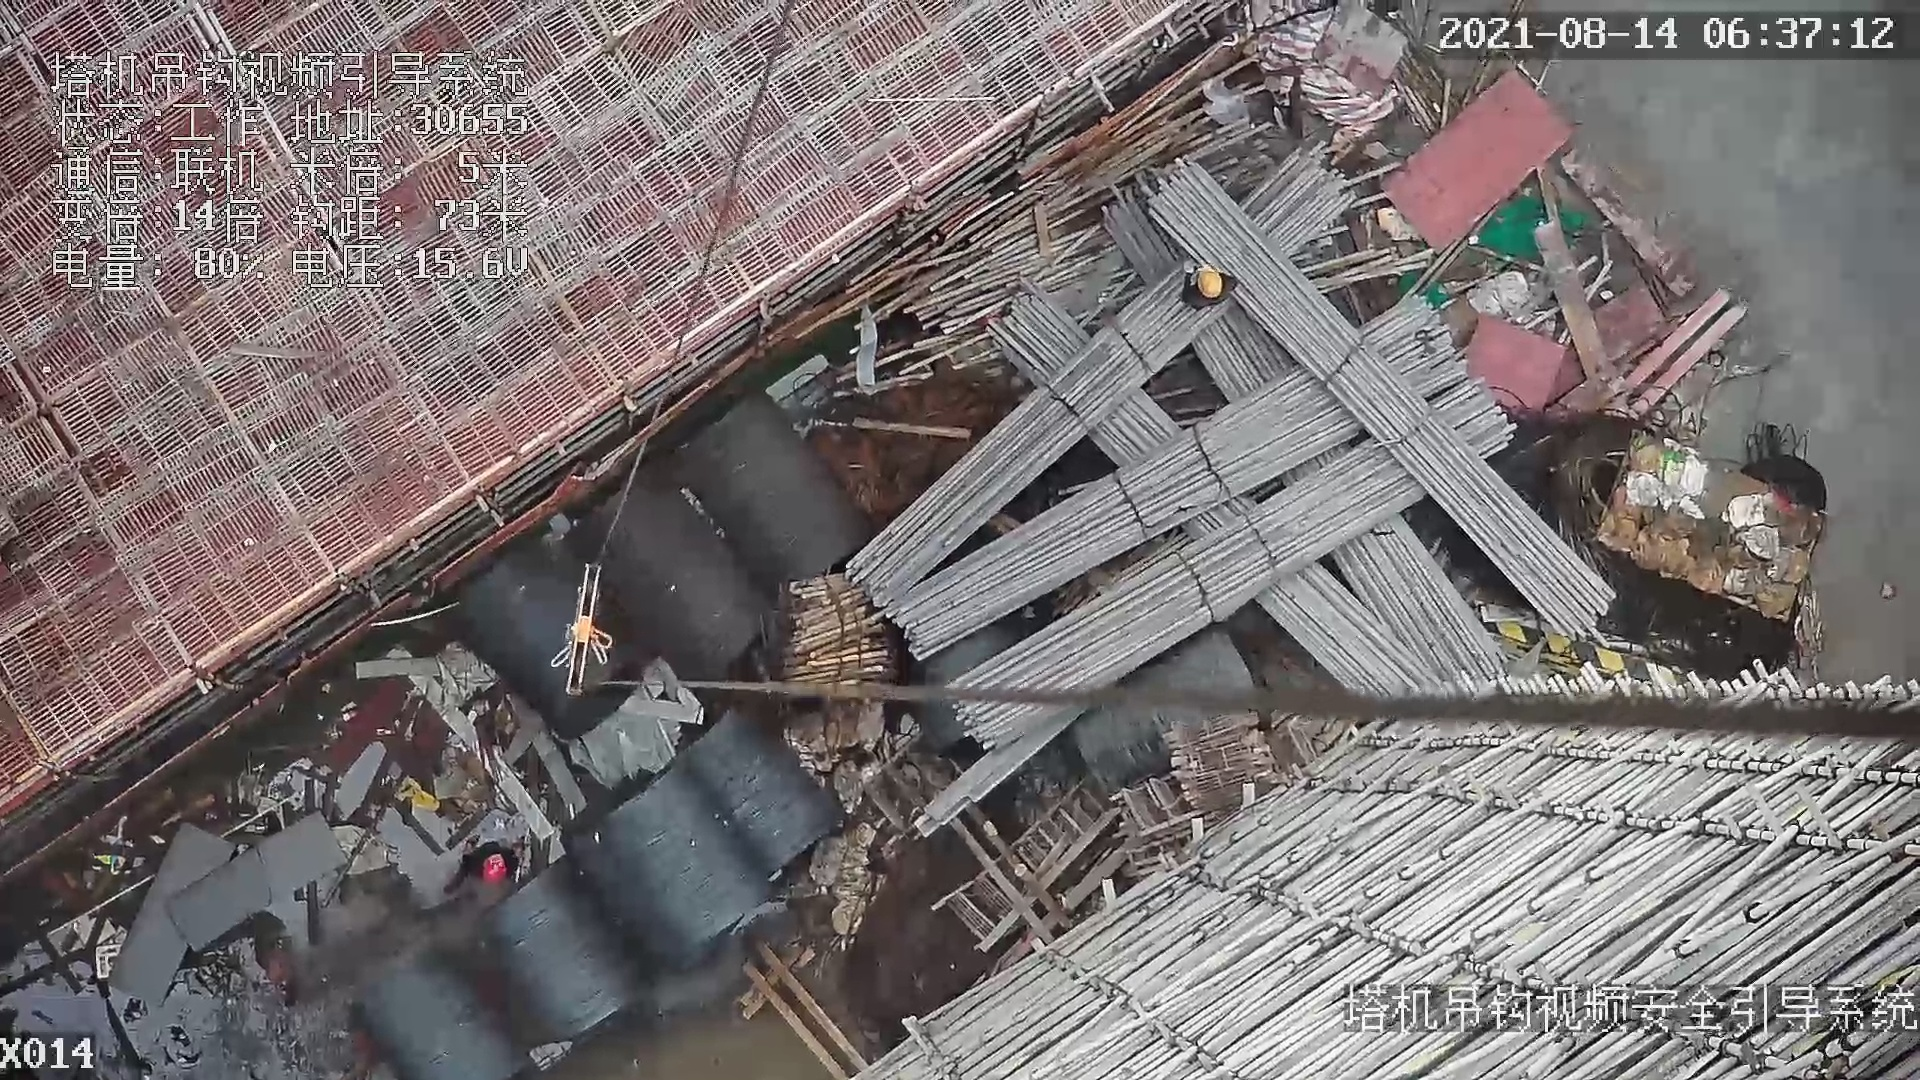helmet: (1193, 266, 1223, 301), (483, 860, 505, 885)
hook: (549, 564, 622, 695)
person: (1178, 259, 1241, 313), (460, 845, 519, 892)
scaffold: (895, 151, 1619, 713), (764, 576, 903, 694)
